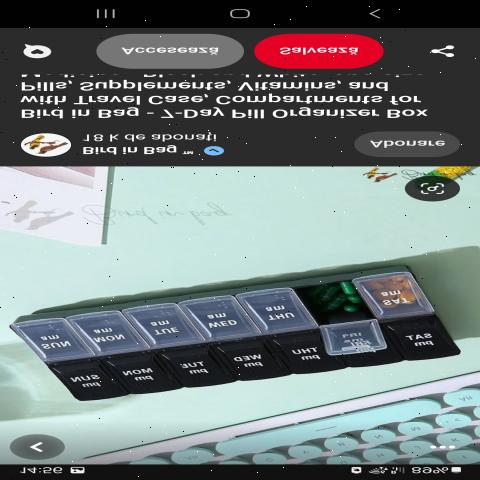PillBox: (14, 251, 472, 414)
